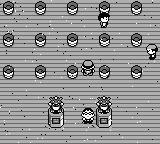leer: (48, 96, 64, 128), (96, 96, 112, 127), (130, 66, 143, 79), (130, 34, 143, 47), (130, 2, 143, 15), (34, 66, 47, 79), (98, 66, 111, 79), (66, 34, 79, 47), (98, 34, 111, 47), (34, 34, 47, 47), (34, 2, 47, 15), (2, 66, 15, 79), (2, 33, 15, 46), (2, 2, 15, 15), (66, 2, 79, 15), (66, 66, 78, 79), (98, 2, 110, 15)
main: (81, 61, 95, 76)
npc: (81, 108, 94, 124), (98, 13, 110, 28), (146, 45, 158, 60)
